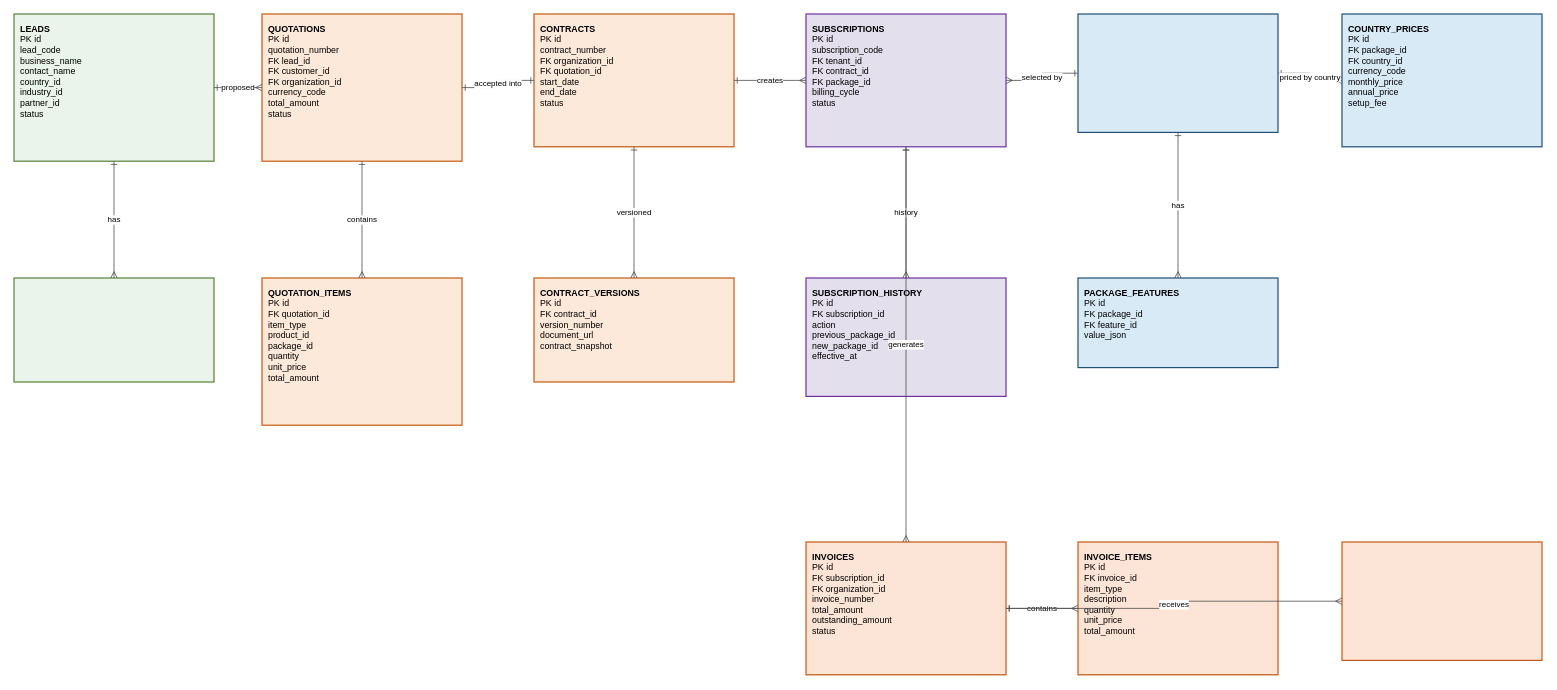
The diagram is 1557 pixels wide and 690 high, and some of its shapes have lost their labels. The centre of each missing label's shape, as x and y in pixels:
LEAD_ACTIVITIES PK id FK lead_id activity_type scheduled_at created_by: the point at 113,329
PACKAGES PK id FK product_id code name version status: the point at 1177,73
PAYMENTS PK id FK invoice_id transaction_reference amount currency_code status: the point at 1441,601
